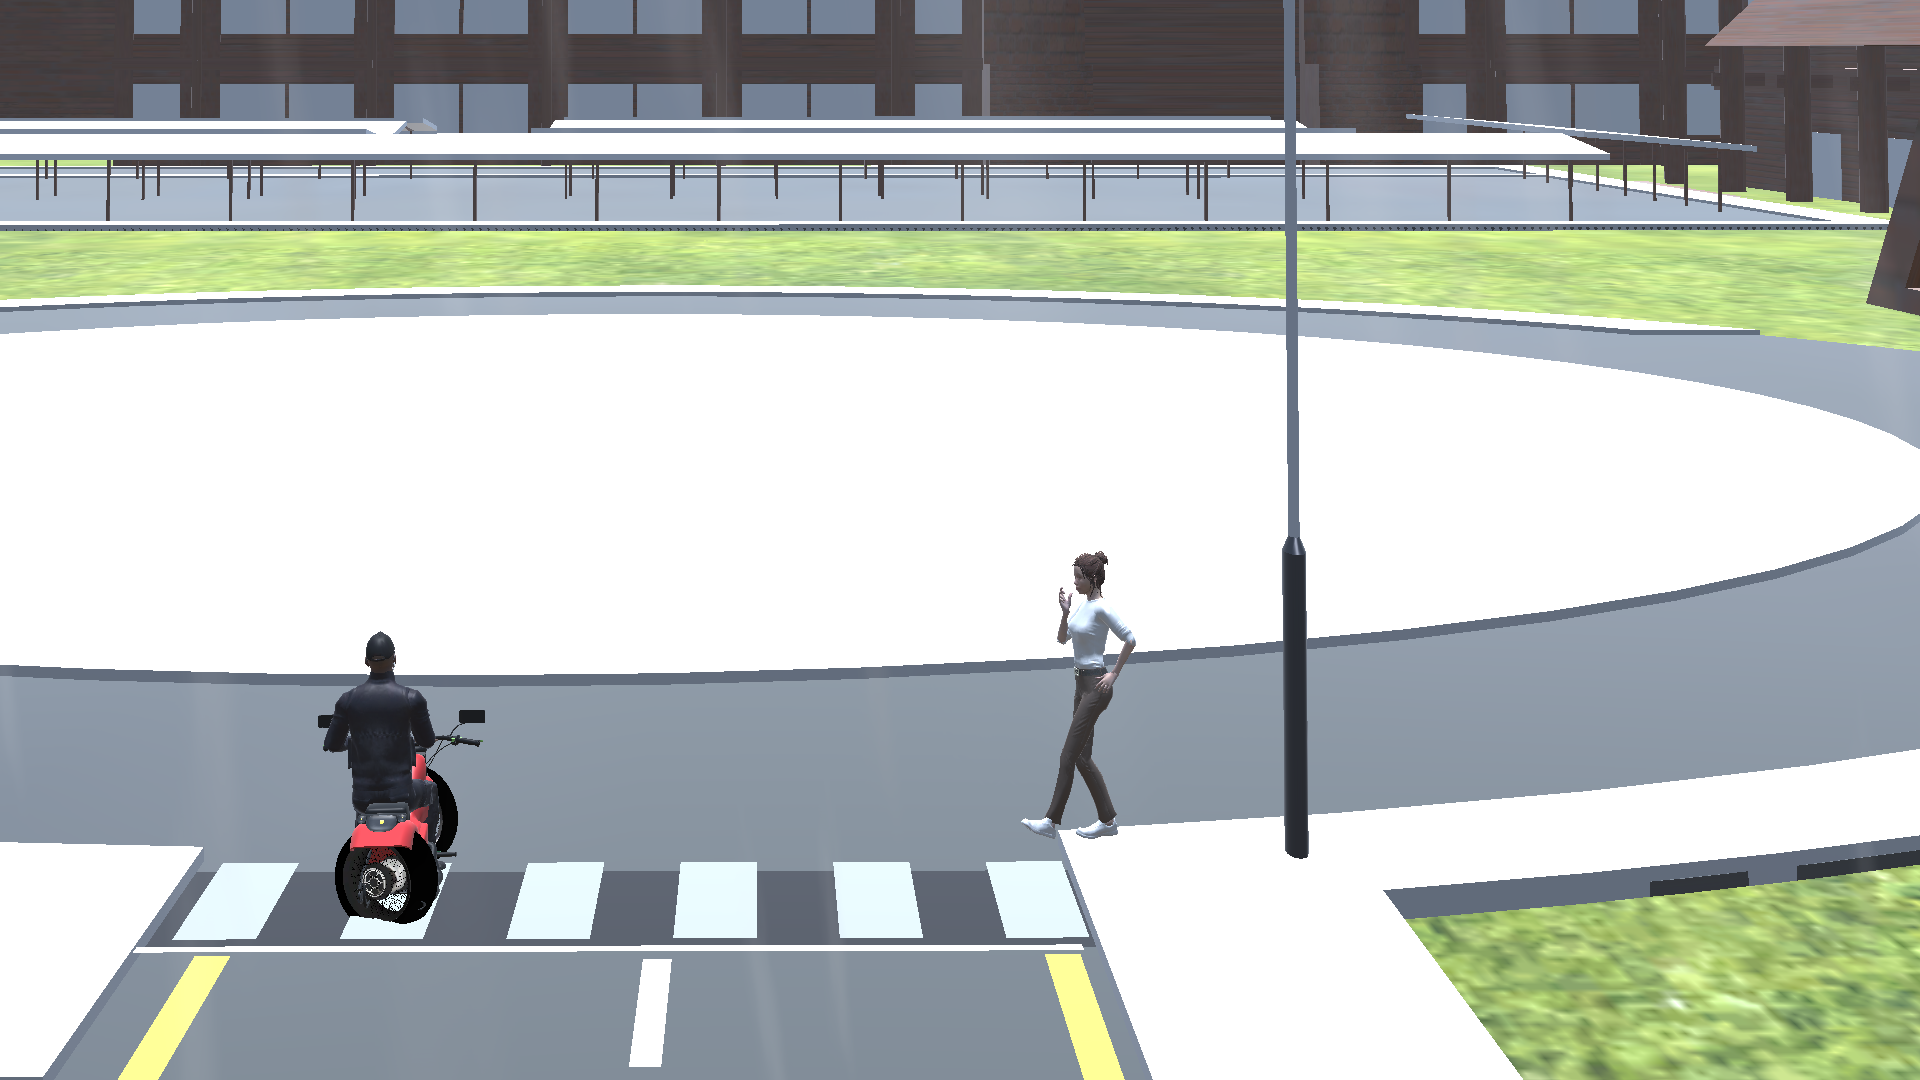pedestrian: (1022, 540, 1143, 853)
